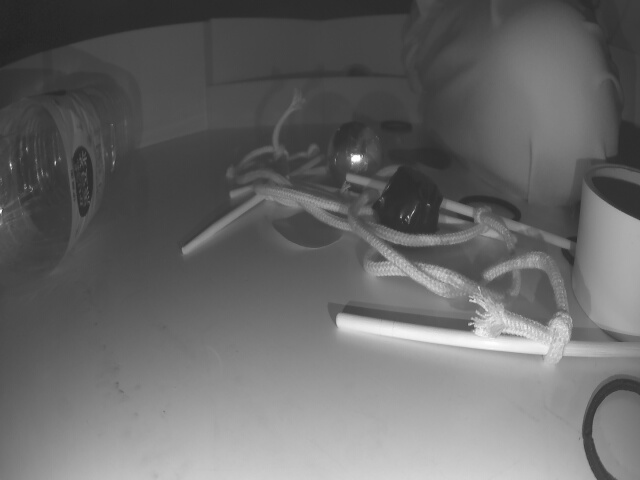Dead: (378, 173, 442, 242)
Live: (328, 122, 383, 192)
Point: (207, 76, 436, 131)
